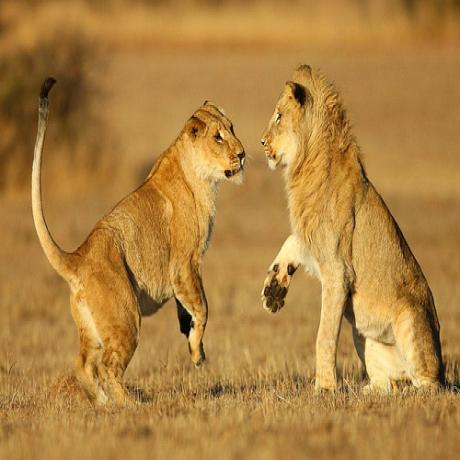Lion: (29, 78, 248, 397), (262, 61, 443, 392)
